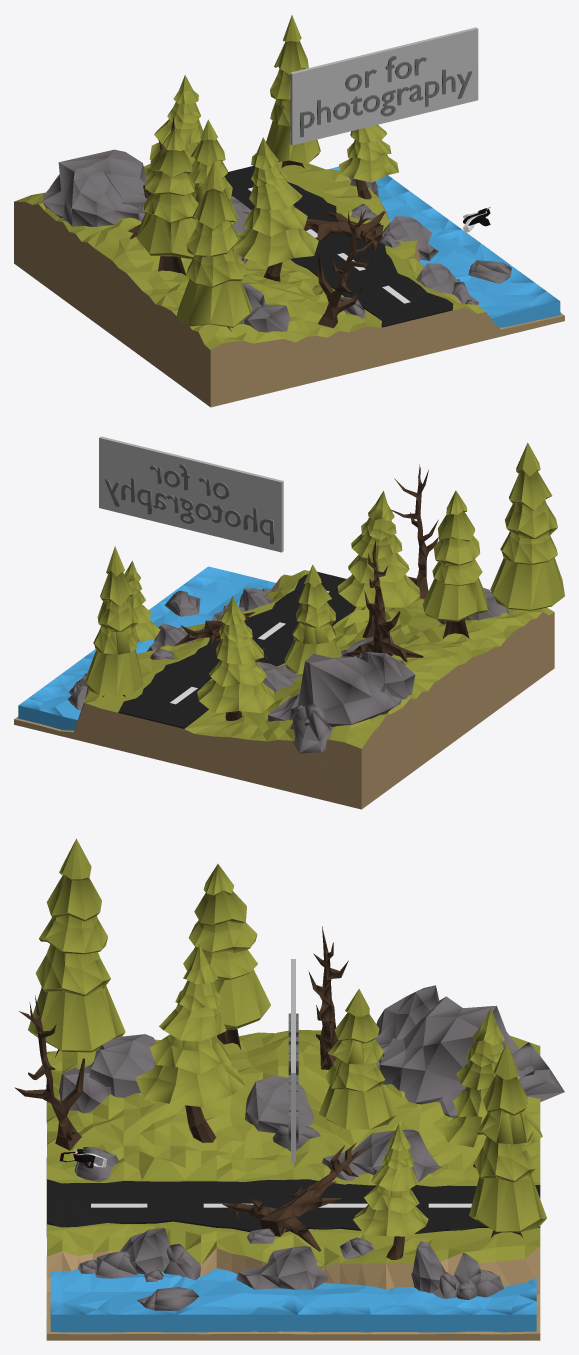
Rendered from forest.glb.
The picture shows the model from 3 angles, top to bottom: view 1: azimuth 30°, elevation 25°; view 2: azimuth 150°, elevation 25°; view 3: azimuth 270°, elevation 25°; orthographic projection. The views are drawn at different scales.
Visible parts, largest first — view 1: forest, Cube; view 2: forest, Cube; view 3: forest, Cube.
Part boxes in pixels (x1,y1,x2,y2): forest: [14, 15, 564, 407]; Cube: [290, 27, 478, 145]; forest: [14, 442, 564, 809]; Cube: [99, 436, 283, 552]; forest: [14, 838, 564, 1340]; Cube: [288, 959, 298, 1162].
Bounding box in the file's own units: 11.27 × 6.64 × 11.24.
